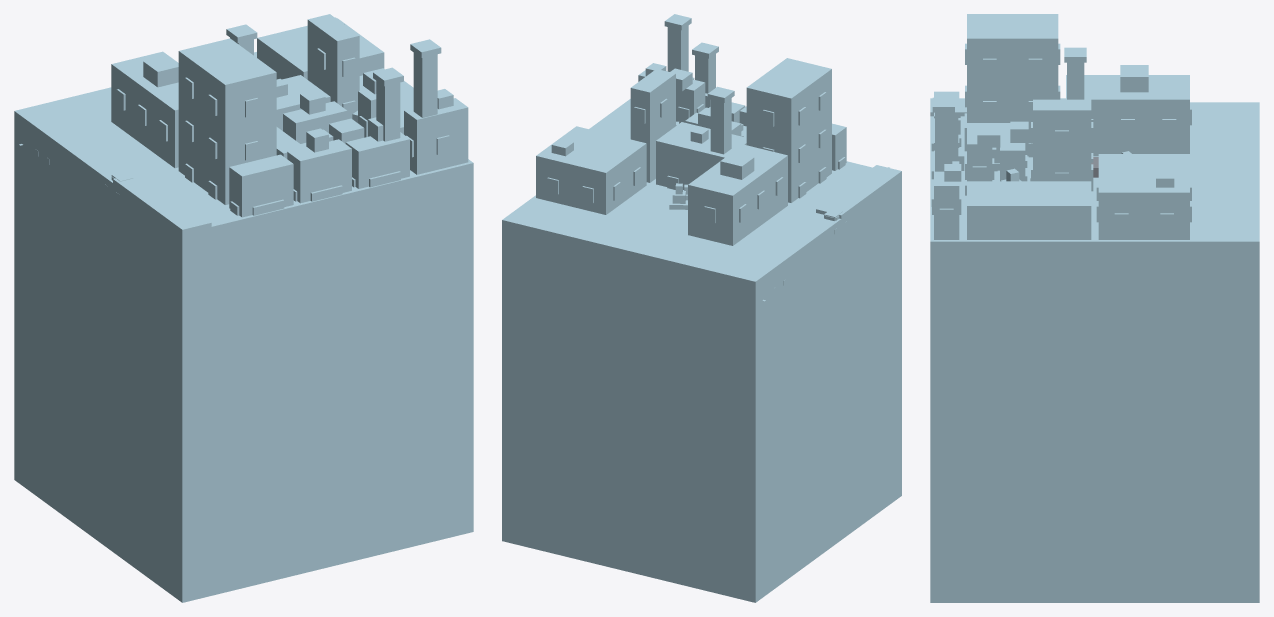
The model's file is block_25_undergroundtanks_100.glb.
3 renders of one model, left to right at view 1: azimuth 30°, elevation 25°; view 2: azimuth 150°, elevation 25°; view 3: azimuth 270°, elevation 25°, orthographic. The views are drawn at different scales.
Parts seen in each view (by area): view 1: Patch_UpperRight_b25_UT, Factories_UpperRight_b25_UT, Roads_UpperRight_b25_UT; view 2: Patch_UpperRight_b25_UT, Factories_UpperRight_b25_UT, Roads_UpperRight_b25_UT; view 3: Patch_UpperRight_b25_UT, Factories_UpperRight_b25_UT.
Boxes of the visible parts, box(x1,y1,x2,y2) form: Patch_UpperRight_b25_UT: box(14, 52, 473, 602); Factories_UpperRight_b25_UT: box(111, 14, 468, 217); Roads_UpperRight_b25_UT: box(15, 143, 211, 233); Patch_UpperRight_b25_UT: box(502, 161, 901, 602); Factories_UpperRight_b25_UT: box(536, 14, 846, 245); Roads_UpperRight_b25_UT: box(502, 165, 901, 309); Patch_UpperRight_b25_UT: box(930, 102, 1259, 602); Factories_UpperRight_b25_UT: box(931, 14, 1191, 239).
Bounding box in the file's own units: 9.6 × 15.31 × 9.5.
